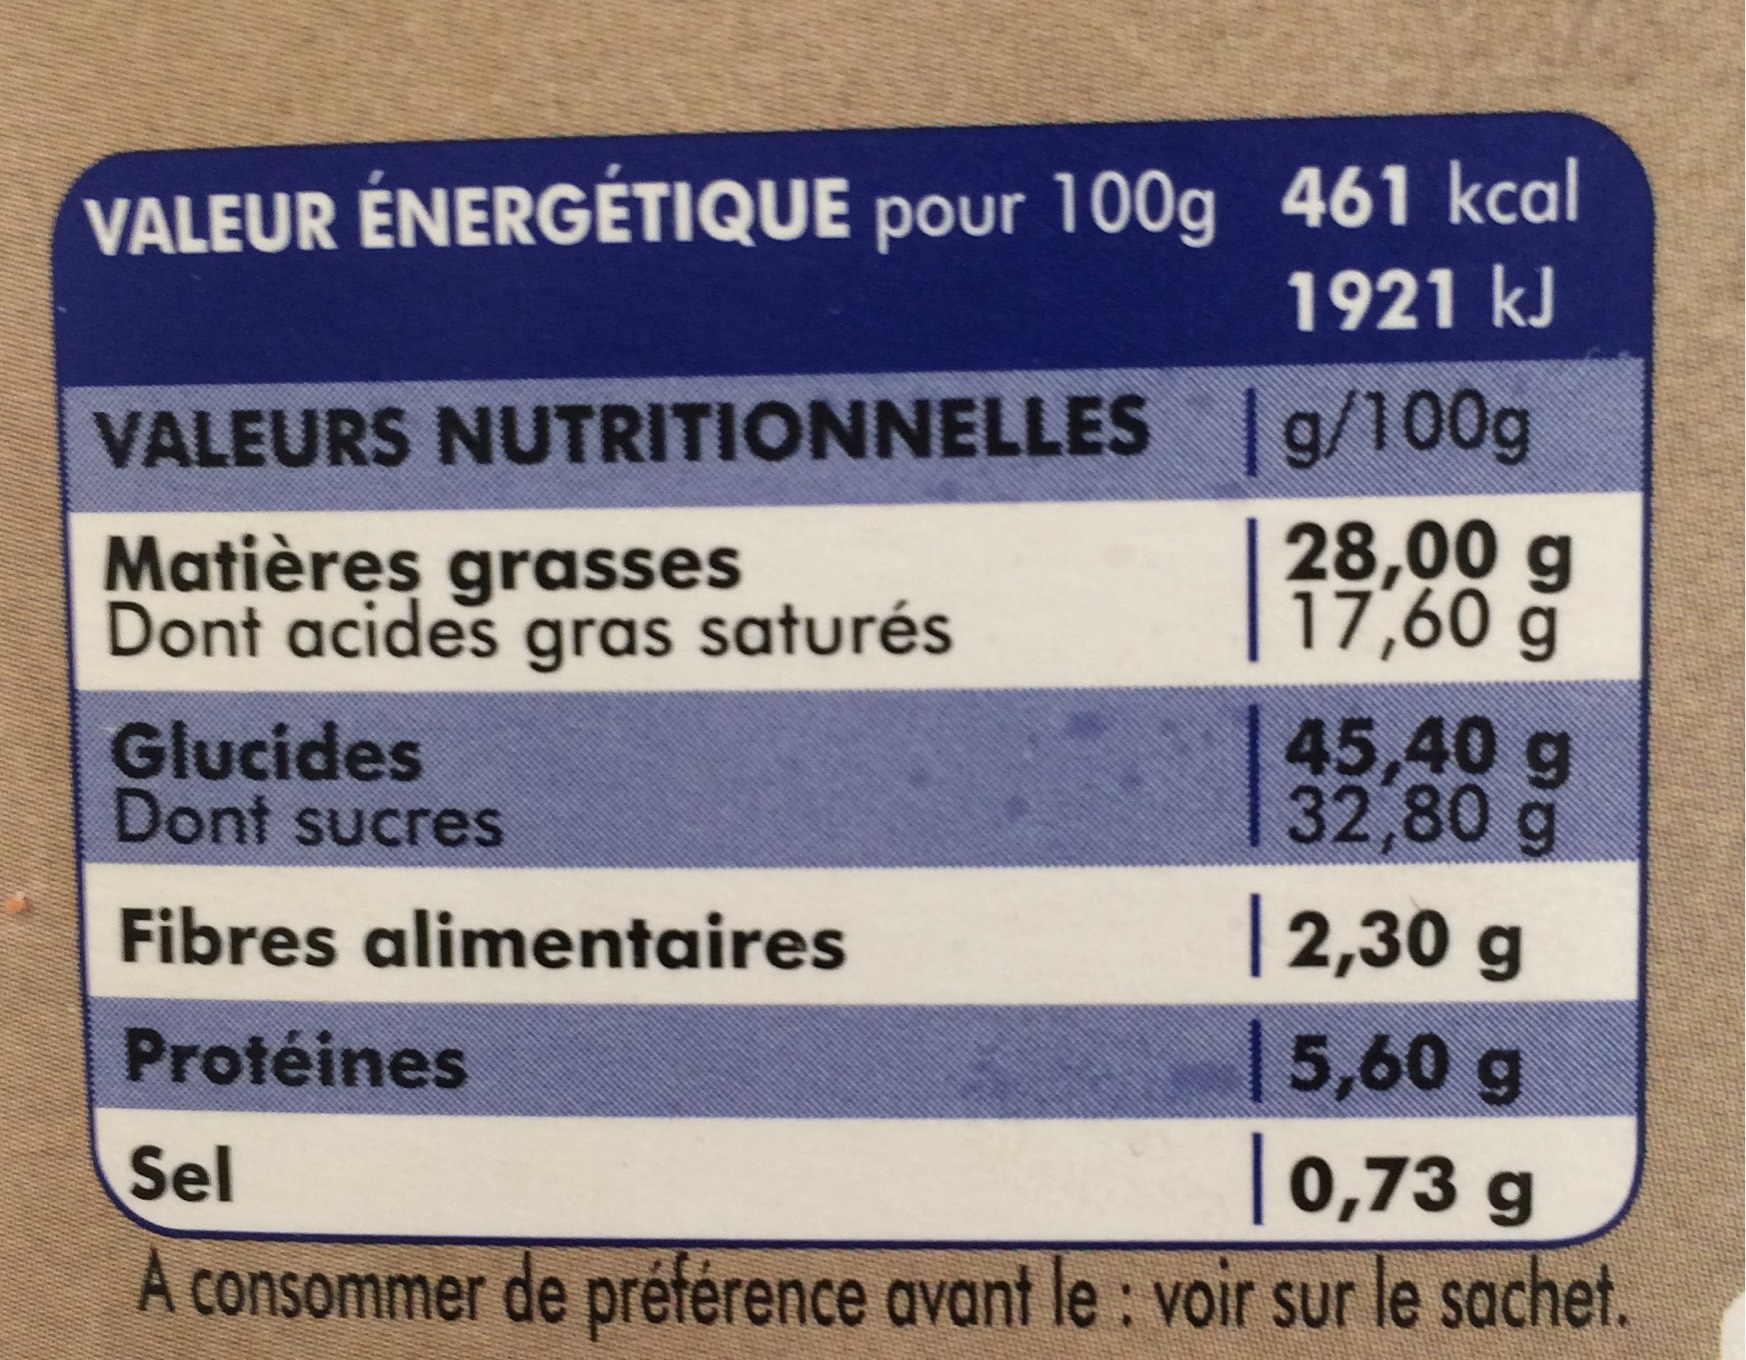column: (92, 381, 1156, 1214), (1280, 373, 1572, 1232)
table: (55, 122, 1651, 1257)
